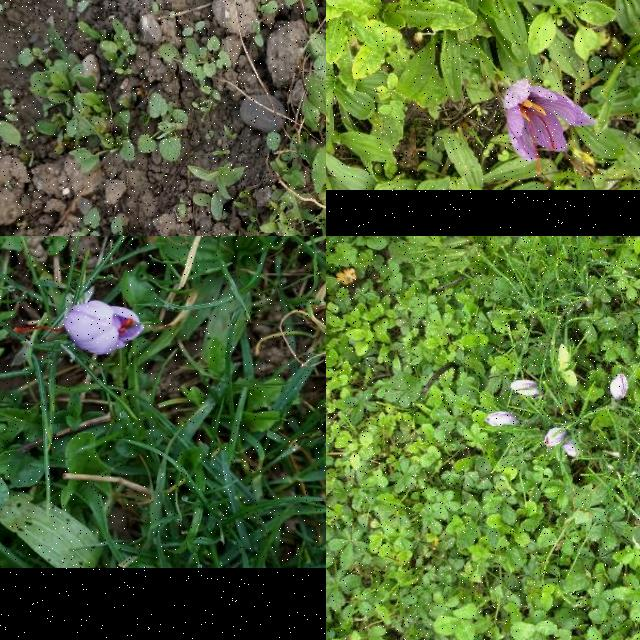flower: (506, 81, 596, 173), (12, 301, 146, 355), (511, 380, 542, 398), (485, 412, 519, 428), (544, 427, 568, 447), (610, 374, 628, 400), (564, 439, 580, 457)
